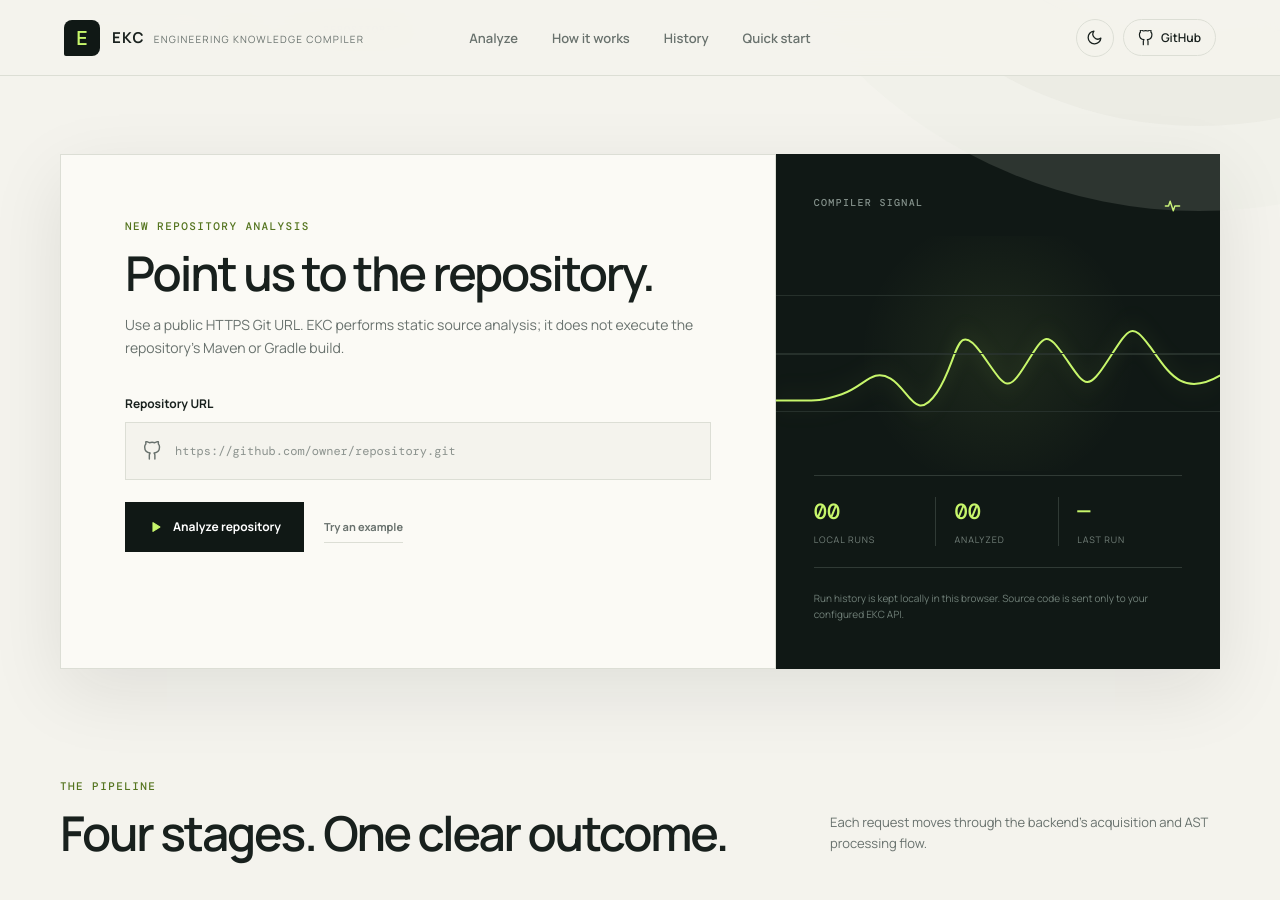
Scenario: EKC console › validates repository URLs before submitting
(page scrolled)
Type "not-a-url" into the field labelled "Repository URL" at (427, 451), box top-left (162, 423), bottom-right (693, 479)
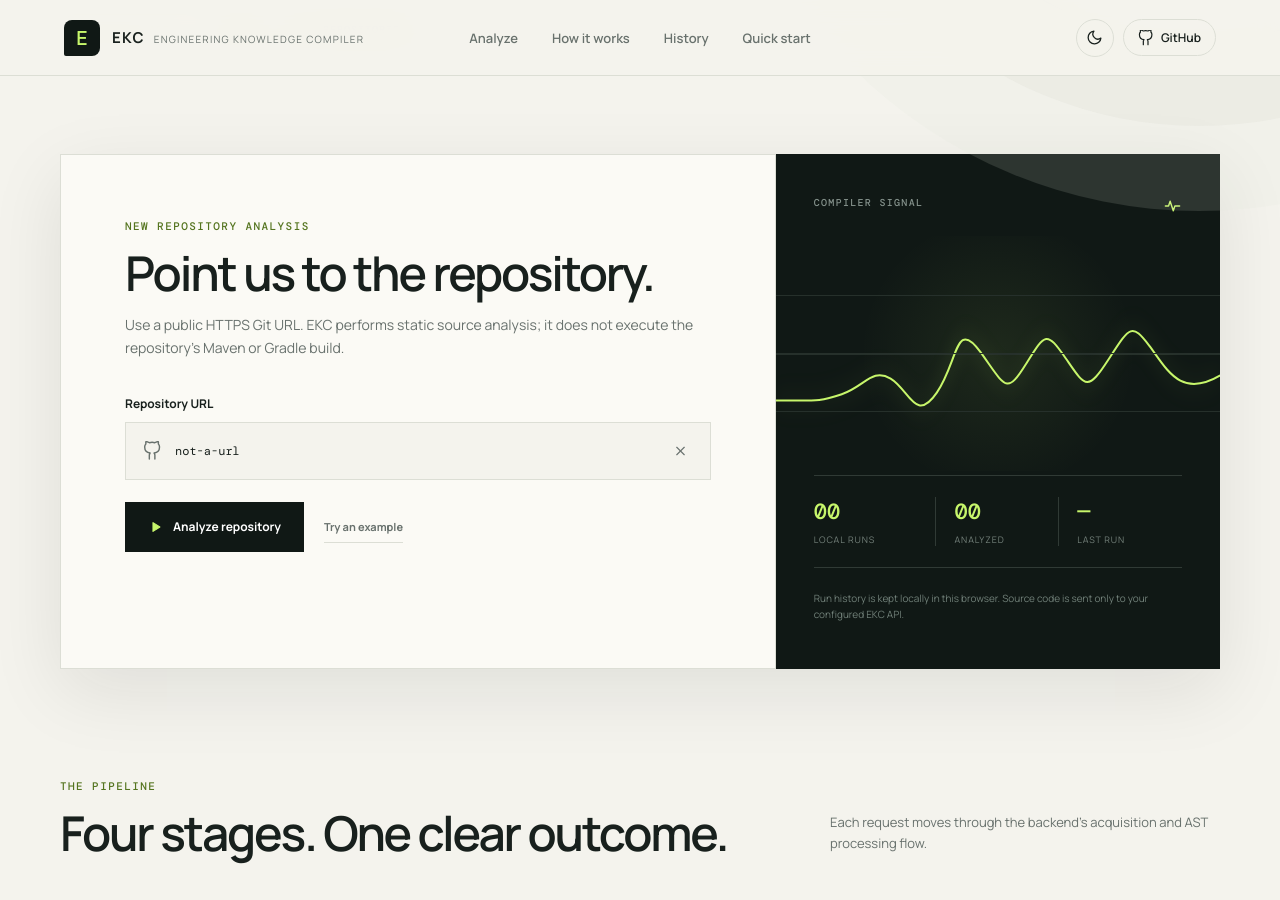
Click the button "Analyze repository" at (214, 527), box top-left (125, 502), bottom-right (304, 552)
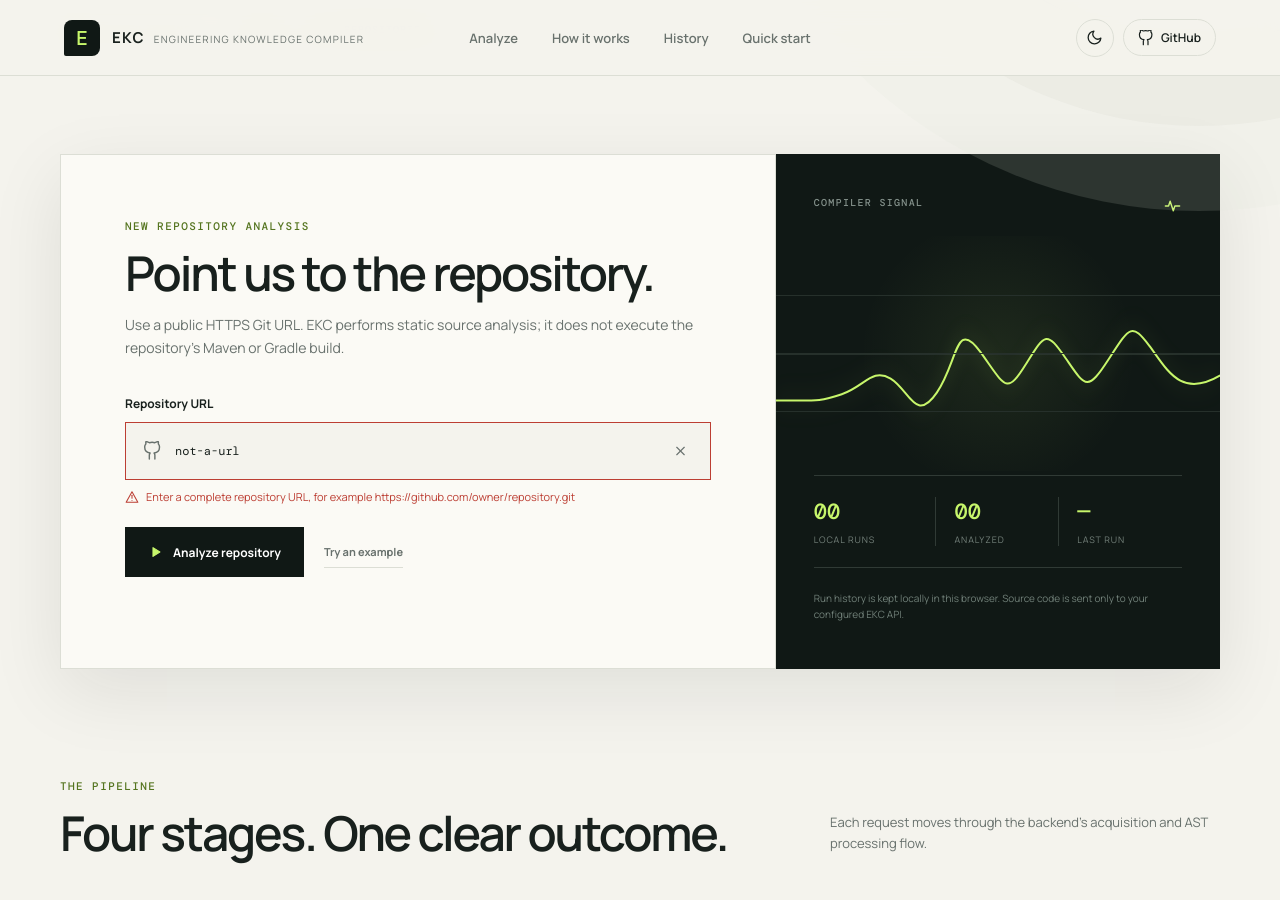
Expected: the message shows "Enter a complete repository URL", top-left (146, 489), bottom-right (575, 504)
